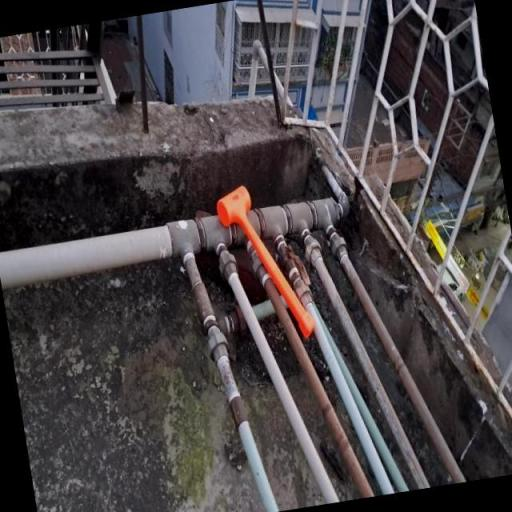mallet: (206, 172, 326, 357)
